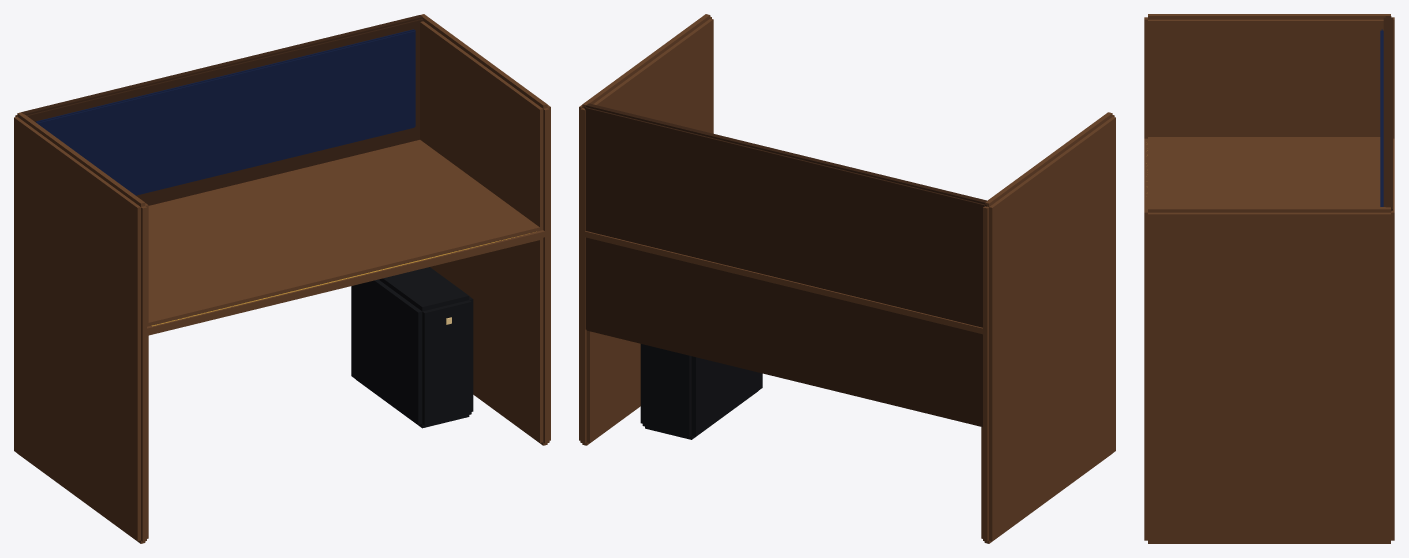
File: pcdesk.glb
3 views of the same model, side by side, from view 1: azimuth 30°, elevation 25°; view 2: azimuth 150°, elevation 25°; view 3: azimuth 270°, elevation 25° (orthographic).
Parts seen in each view (by area): view 1: pcdesk_wood, pcdesk_navy, pcdesk_dark, pcdesk_wood_dark; view 2: pcdesk_wood_dark, pcdesk_wood, pcdesk_dark; view 3: pcdesk_wood, pcdesk_wood_dark, pcdesk_navy.
Boxes of the visible parts, bbox=[...] form: pcdesk_wood: bbox=[14, 14, 550, 543]; pcdesk_navy: bbox=[35, 29, 415, 195]; pcdesk_dark: bbox=[351, 267, 473, 428]; pcdesk_wood_dark: bbox=[21, 15, 423, 205]; pcdesk_wood_dark: bbox=[584, 103, 987, 426]; pcdesk_wood: bbox=[579, 14, 1115, 543]; pcdesk_dark: bbox=[640, 344, 762, 439]; pcdesk_wood: bbox=[1144, 14, 1394, 543]; pcdesk_wood_dark: bbox=[1383, 16, 1392, 211]; pcdesk_navy: bbox=[1380, 29, 1383, 206].
Size of the model in its own units: 1.5 by 1.18 by 0.8.
